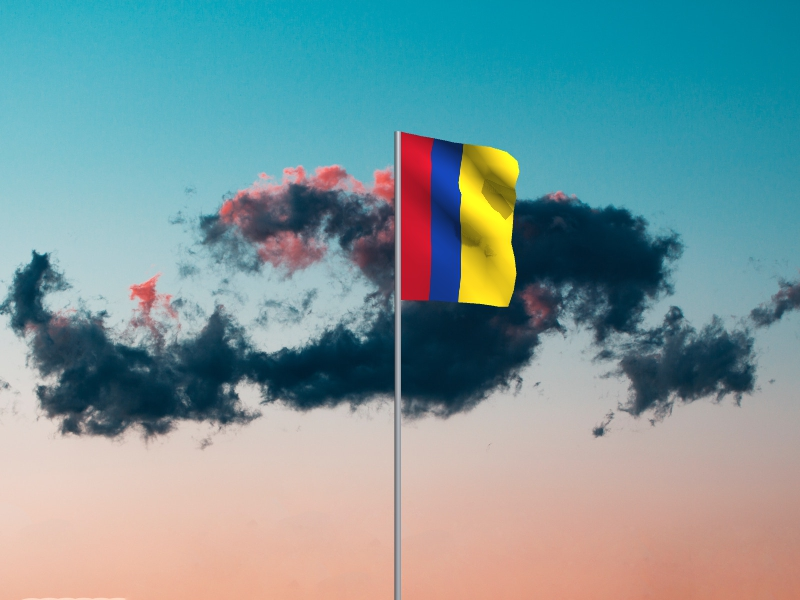co: (402, 133, 521, 309)
